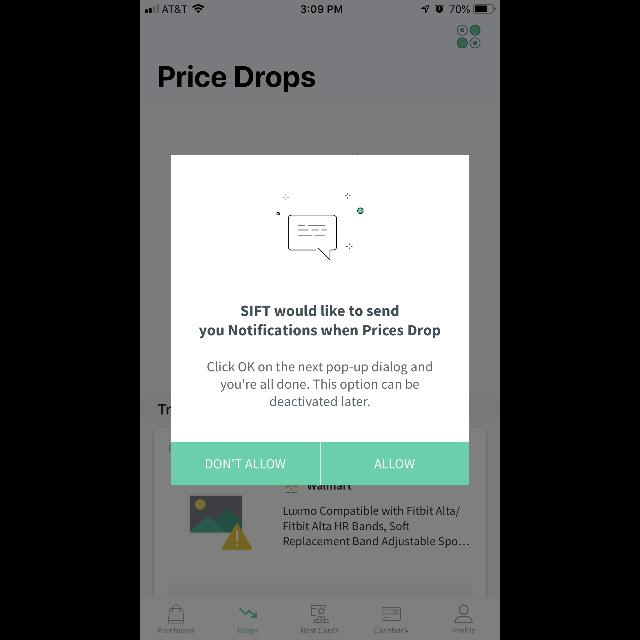image: (276, 193, 364, 261)
panel: (172, 155, 468, 485)
text: (208, 362, 432, 406), (200, 305, 440, 339)
textbutton: (172, 442, 320, 486), (321, 442, 469, 484)
uppertaskbar: (140, 0, 500, 14)
